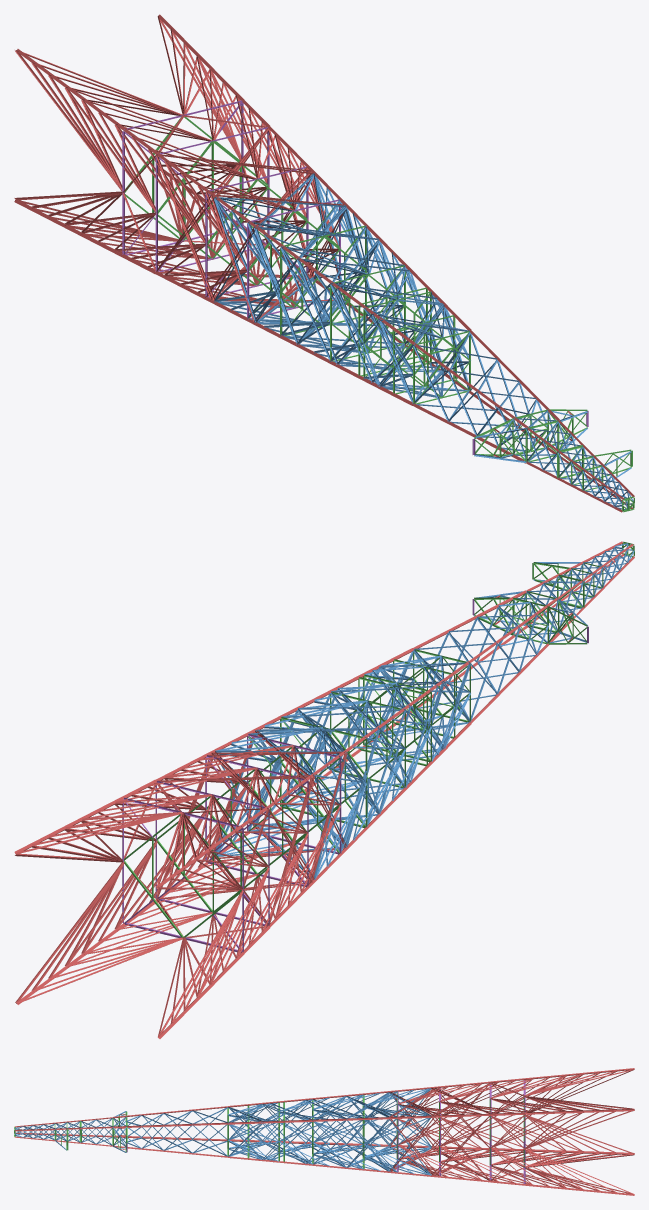
Rendered from gt_reference.glb.
The picture shows the model from 3 angles, top to bottom: view 1: azimuth 30°, elevation 25°; view 2: azimuth 150°, elevation 25°; view 3: azimuth 270°, elevation 25°; orthographic projection. The views are drawn at different scales.
Parts seen in each view (by area): view 1: no part large enough to name; view 2: no part large enough to name; view 3: gt_bar_PM_1065.
Boxes of the visible parts, <box> form: gt_bar_PM_1065: <box>525,1154,634,1167</box>.
Bounding box in the file's own units: 5691 × 5691 × 36670.
